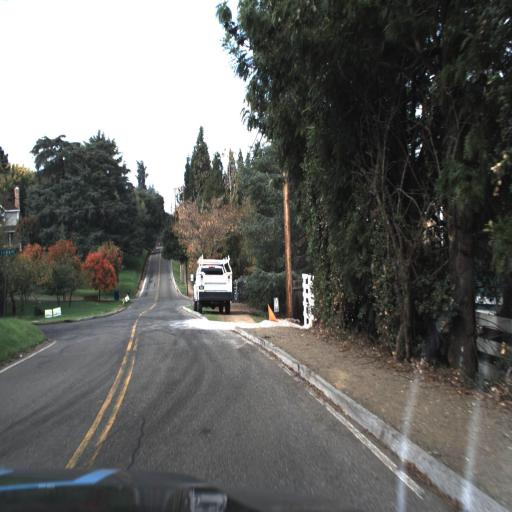car: (188, 250, 235, 315), (191, 253, 235, 311)
